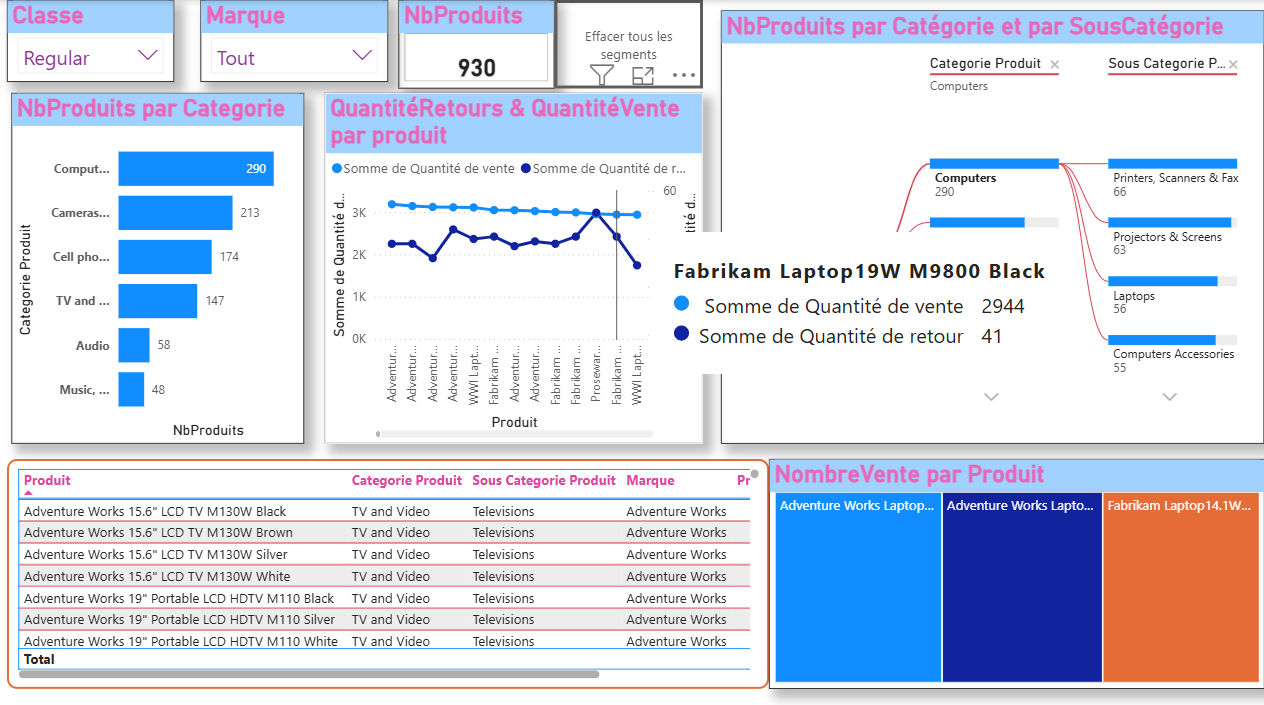

Layout of this report page (visuals, bound fields, positions):
{"tool":"powerbi","page":{"name":"Produits","canvas":[1280,720],"ordinal":1},"visuals":[{"type":"slicer","title":"Classe","fields":{"Values":["Produits.Class"]},"box":[9.7,0,168.4,82.6],"z":0},{"type":"slicer","title":"Marque","fields":{"Values":["Produits.Marque"]},"box":[204,0,189.4,82.6],"z":1000},{"type":"cardVisual","title":"NbProduits","fields":{"Data":["Produits.NbProduits"]},"box":[405,0,157.5,89],"z":2000},{"type":"barChart","title":"NbProduits par Categorie","fields":{"Category":["Categorie Produits.Categorie Produit"],"Y":["Produits.NbProduits"]},"box":[13.6,93.9,295.3,354.3],"z":3000},{"type":"tableEx","fields":{"Values":["Produits.Produit","Categorie Produits.Categorie Produit","Sous Categories Produits.Sous Categorie Produit","Produits.Marque","Produits.Prix unitaire ($)","Sales.NombreVente"]},"box":[9.1,463.3,769.2,231.7],"z":4000},{"type":"lineChart","title":"QuantitéRetours & QuantitéVente par produit","fields":{"Category":["Produits.Produit"],"Y":["Sum(Sales.Quantité de vente)"],"Y2":["Sum(Sales.Quantité de retour)"]},"box":[330.1,93.9,381.6,354.3],"z":5000},{"type":"actionButton","box":[561.8,0,149.9,89.3],"z":6000},{"type":"decompositionTreeVisual","title":"NbProduits par Catégorie et par SousCatégorie","fields":{"Analyze":["Produits.NbProduits"],"ExplainBy":["Categorie Produits.Categorie Produit","Sous Categories Produits.Sous Categorie Produit"]},"box":[729.8,10.6,549.7,437.6],"z":7000},{"type":"treemap","fields":{"Group":["Produits.Produit"],"Values":["Sales.NombreVente"]},"box":[778.3,463.3,501.2,231.7],"z":8000}]}

Visuals, with their boxes in screenshot pixels (x1, y1, x2, y2), scaled from the page's 1280x720 canvas onto the 1264x705 screenshot:
"Classe" slicer: 10 0 176 81
"Marque" slicer: 201 0 388 81
"NbProduits" cardVisual: 400 0 555 87
"NbProduits par Categorie" barChart: 13 92 305 439
tableEx - Produits.Produit x Categorie Produits.Categorie Produit: 9 454 769 681
"QuantitéRetours & QuantitéVente par produit" lineChart: 326 92 703 439
actionButton: 555 0 703 87
"NbProduits par Catégorie et par SousCatégorie" decompositionTreeVisual: 721 10 1263 439
treemap - Produits.Produit x Sales.NombreVente: 769 454 1263 681
